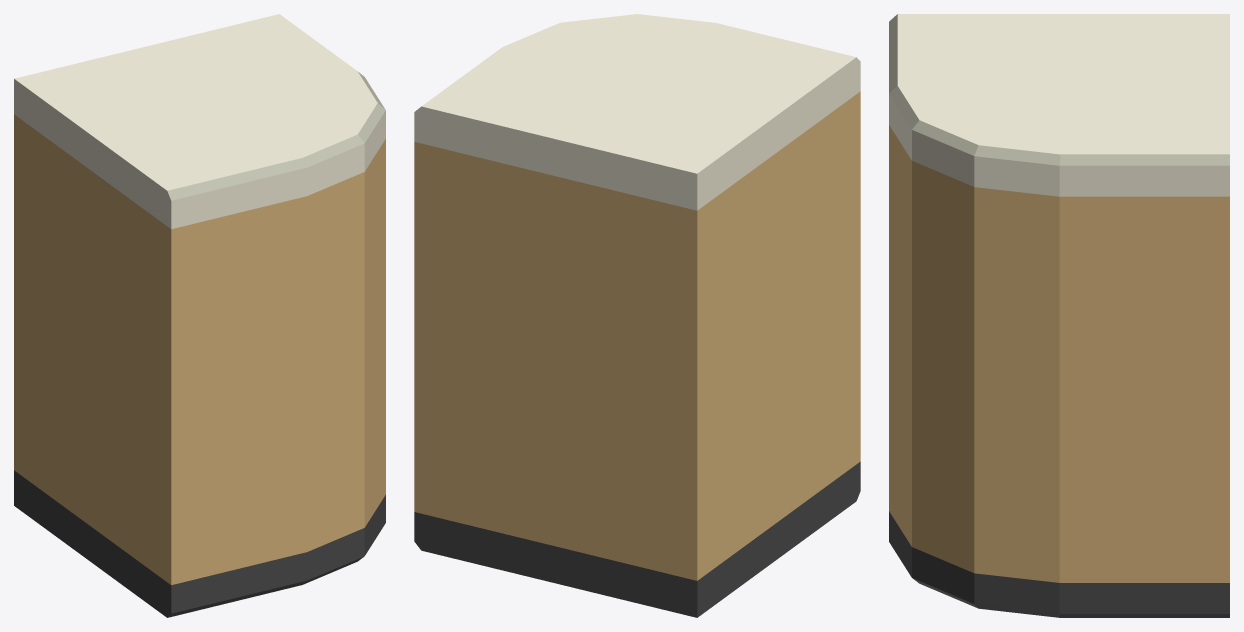
Rendered from cafedeskcorner.glb.
The picture shows the model from 3 angles, left to right: view 1: azimuth 30°, elevation 25°; view 2: azimuth 150°, elevation 25°; view 3: azimuth 270°, elevation 25°; orthographic projection. The views are drawn at different scales.
Parts seen in each view (by area): view 1: Cube.001; view 2: Cube.001; view 3: Cube.001.
Part boxes in pixels (bbox=[...]): Cube.001: bbox=[14, 14, 385, 617]; Cube.001: bbox=[414, 14, 860, 617]; Cube.001: bbox=[889, 14, 1229, 617].
Bounding box in the file's own units: 1 × 1.5 × 1.
